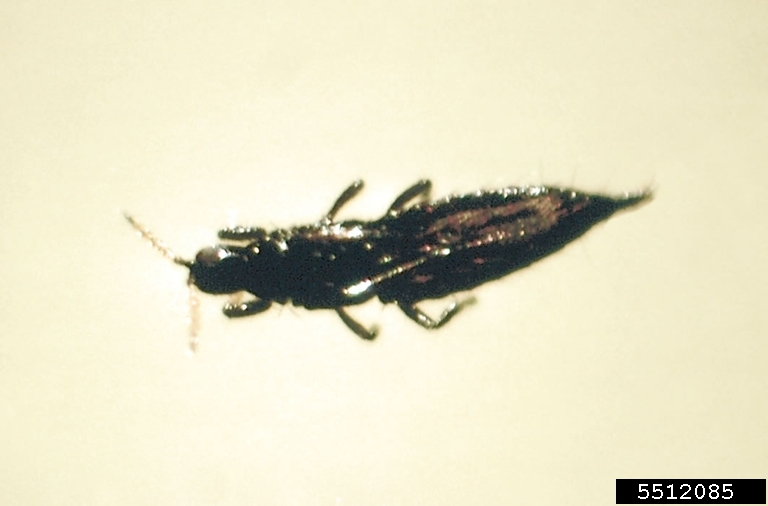Phlaeothripidae: (121, 173, 668, 355)
